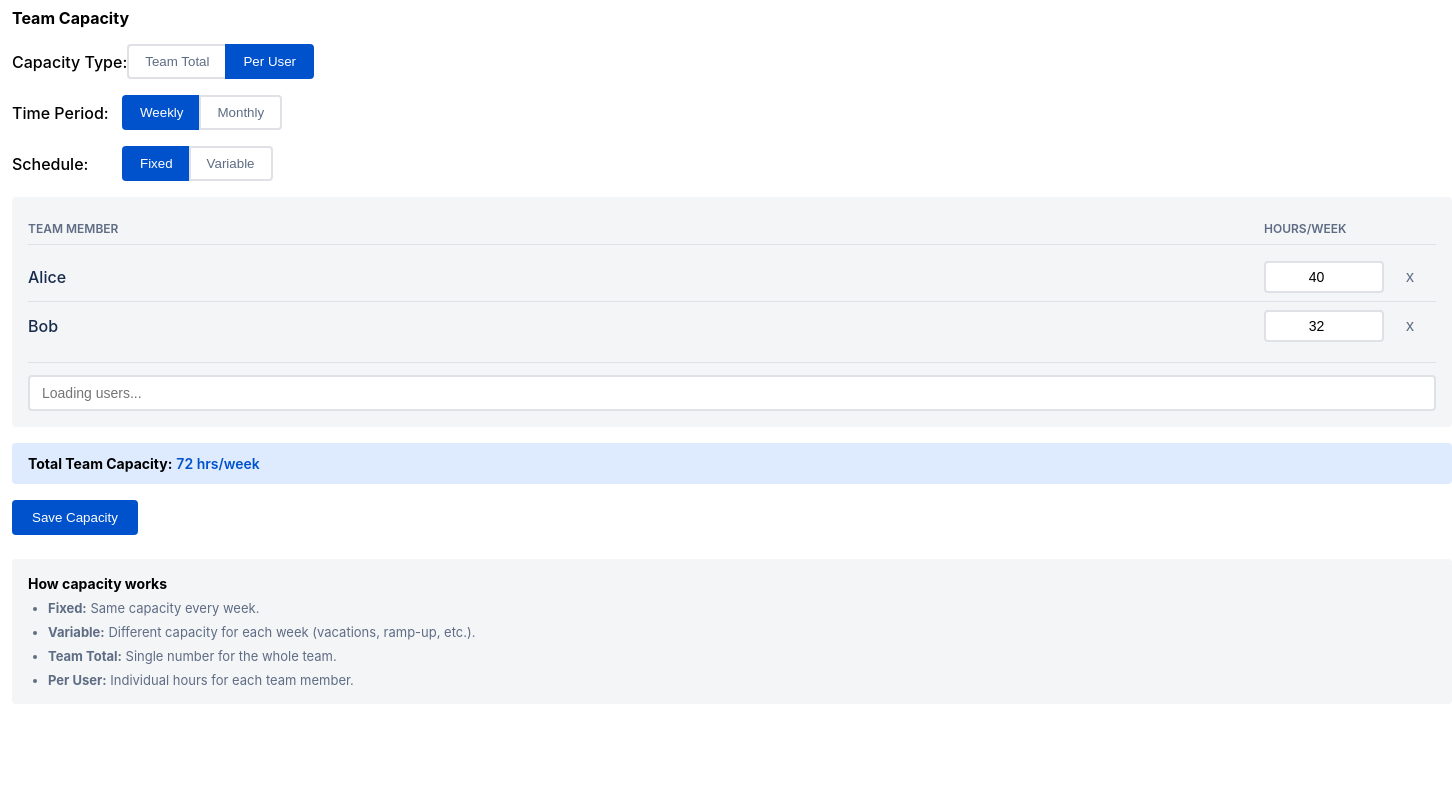
Test: CapacityPanel › Fixed Per User Capacity › can remove a team member
Step 1. Click the button titled "Remove team member" in the row of "Alice" → click(1410, 277), box [1396,263,1424,291]
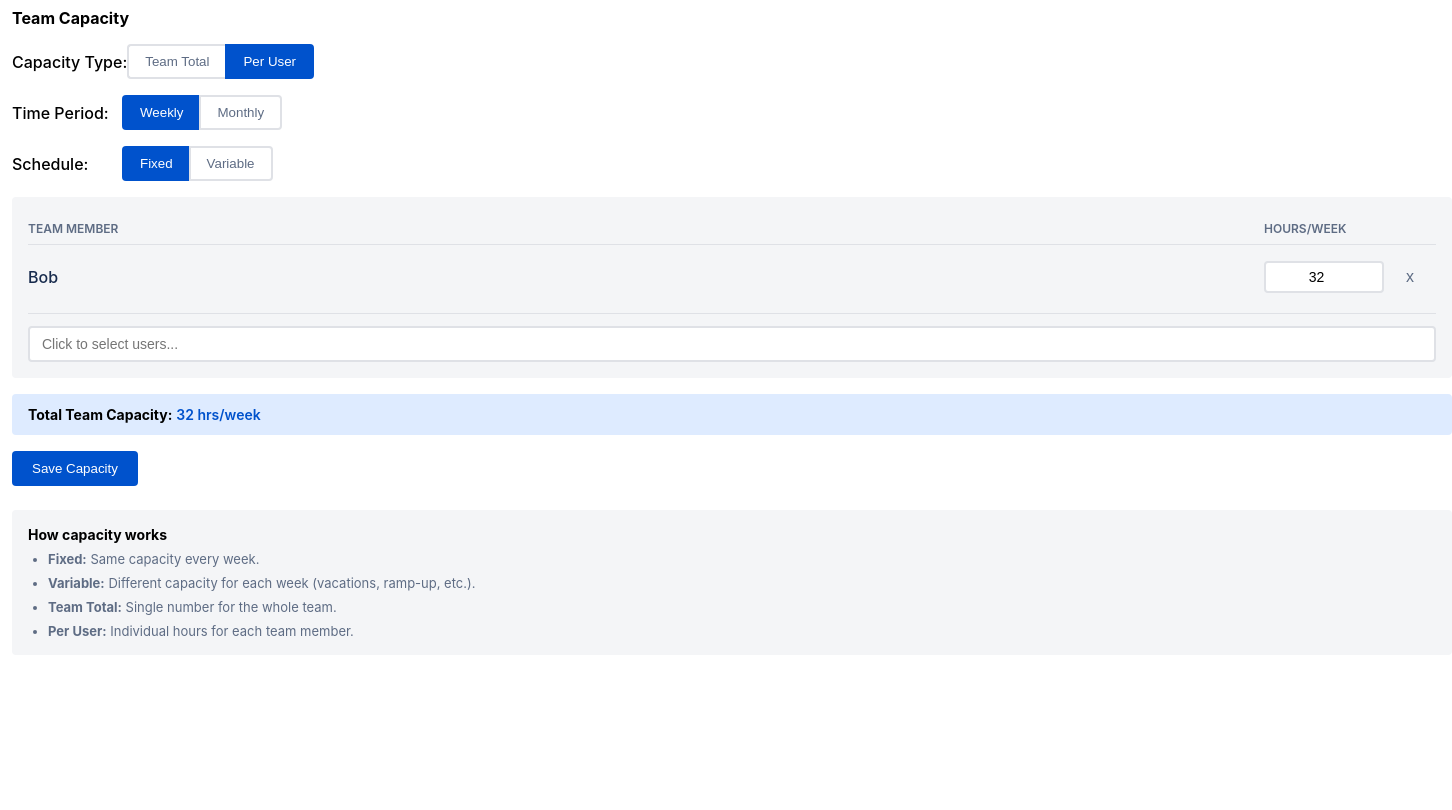
Expected: the text "Alice" is gone
